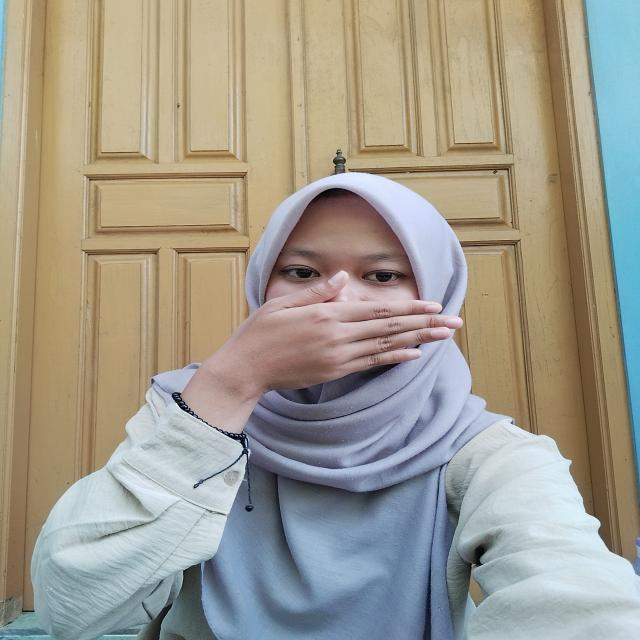buruk: (172, 271, 461, 404)
